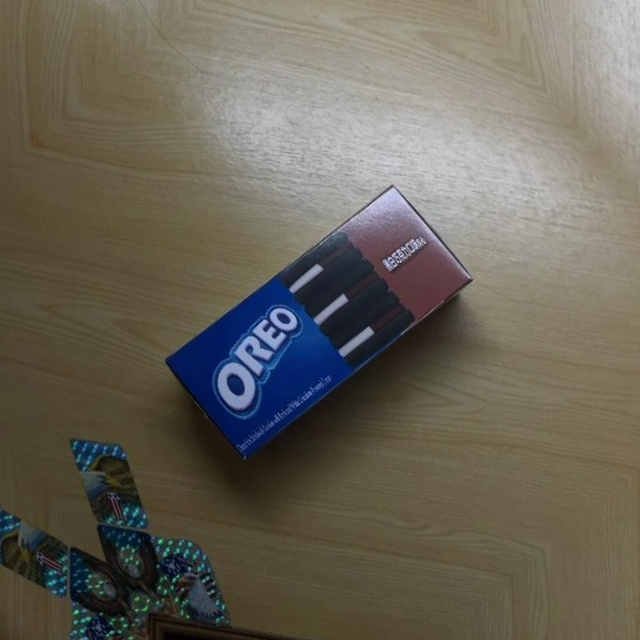Oreo: (153, 167, 475, 471)
